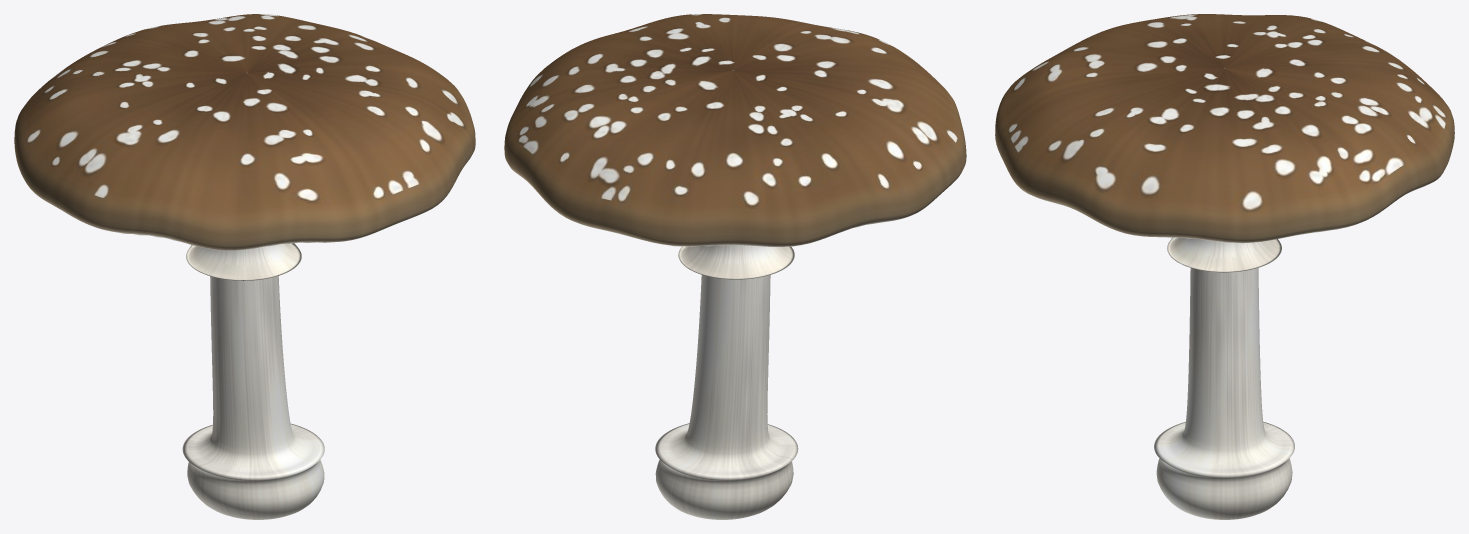
The model's file is amanita-pantherina-drawn.glb.
3 views of the same model, side by side, from view 1: azimuth 30°, elevation 25°; view 2: azimuth 150°, elevation 25°; view 3: azimuth 270°, elevation 25° (orthographic).
Size of the model in its own units: 0.7845 by 0.81 by 0.7859.
1 material, 1 textured.
